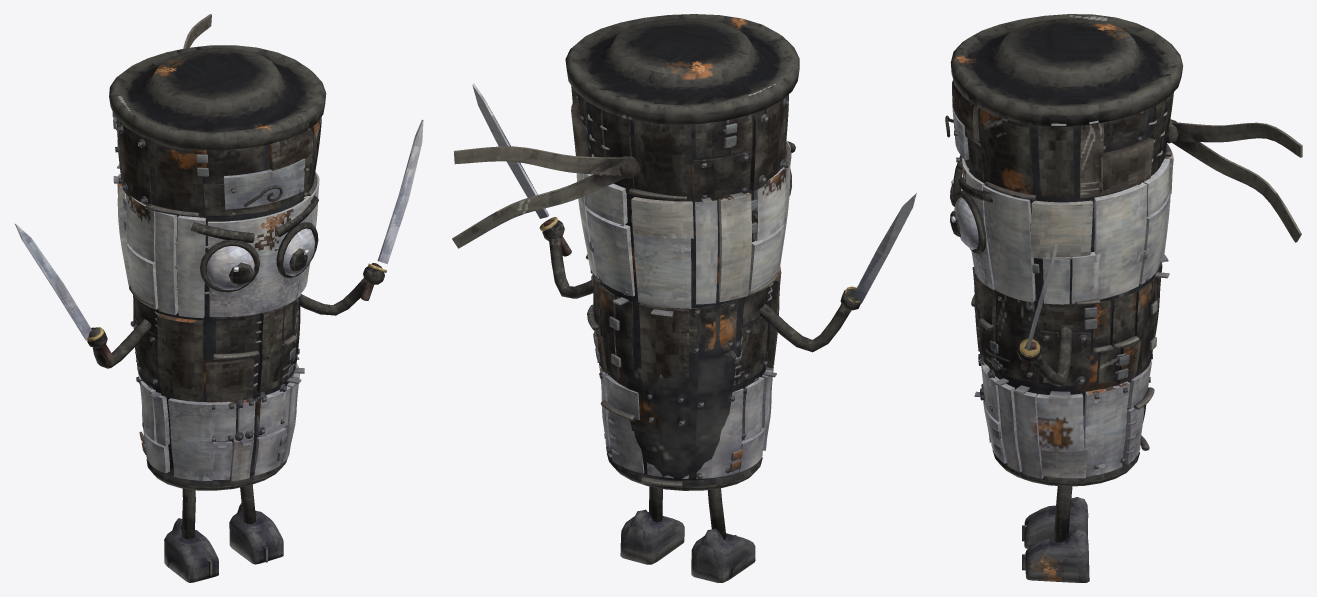
3 renders of one model, left to right at view 1: azimuth 30°, elevation 25°; view 2: azimuth 150°, elevation 25°; view 3: azimuth 270°, elevation 25°, orthographic. The views are drawn at different scales.
Parts seen in each view (by area): view 1: Lid, PanelsENAMEL, PanelsTAR, PanelsSOOT, PanelsBURNT, Face, Boots, PanelsALUMINIUM, Body, Blades, Headband, Arms (+11 smaller); view 2: Lid, PanelsENAMEL, Body, PanelsSOOT, PanelsBURNT, PanelsALUMINIUM, Tails, PanelsTIN, Boots, PanelsTAR, Arms, Blades (+5 smaller); view 3: Lid, PanelsENAMEL, PanelsSOOT, PanelsTAR, PanelsALUMINIUM, PanelsTIN, Tails, Body, Boots, PanelsBURNT, Arms, Welds (+11 smaller).
Boxes of the visible parts, x1=… form: Lid: x1=109, y1=45, x2=326, y2=150; PanelsENAMEL: x1=125, y1=175, x2=319, y2=479; PanelsTAR: x1=157, y1=128, x2=312, y2=402; PanelsSOOT: x1=117, y1=116, x2=321, y2=392; PanelsBURNT: x1=116, y1=119, x2=203, y2=386; Face: x1=207, y1=196, x2=310, y2=317; Boots: x1=164, y1=503, x2=283, y2=582; PanelsALUMINIUM: x1=153, y1=392, x2=213, y2=480; Body: x1=133, y1=138, x2=303, y2=479; Blades: x1=15, y1=119, x2=423, y2=341; Headband: x1=224, y1=158, x2=305, y2=209; Arms: x1=87, y1=264, x2=384, y2=368; Lid: x1=565, y1=14, x2=799, y2=124; PanelsENAMEL: x1=575, y1=140, x2=791, y2=478; Body: x1=580, y1=100, x2=774, y2=480; PanelsSOOT: x1=577, y1=94, x2=770, y2=378; PanelsBURNT: x1=590, y1=94, x2=788, y2=384; PanelsALUMINIUM: x1=599, y1=234, x2=774, y2=457; Tails: x1=452, y1=146, x2=640, y2=248; PanelsTIN: x1=631, y1=192, x2=751, y2=302; Boots: x1=620, y1=509, x2=755, y2=582; PanelsTAR: x1=571, y1=86, x2=781, y2=390; Arms: x1=542, y1=219, x2=860, y2=352; Blades: x1=472, y1=83, x2=916, y2=304; Lid: x1=950, y1=14, x2=1182, y2=126; PanelsENAMEL: x1=980, y1=158, x2=1169, y2=478; PanelsSOOT: x1=978, y1=92, x2=1173, y2=385; PanelsTAR: x1=952, y1=80, x2=1162, y2=384; PanelsALUMINIUM: x1=1042, y1=192, x2=1170, y2=476; PanelsTIN: x1=983, y1=148, x2=1173, y2=478; Tails: x1=1166, y1=119, x2=1302, y2=242; Body: x1=969, y1=106, x2=1157, y2=430; Boots: x1=1024, y1=497, x2=1089, y2=582; PanelsBURNT: x1=1037, y1=100, x2=1165, y2=364; Arms: x1=1016, y1=327, x2=1072, y2=386; Welds: x1=971, y1=143, x2=1171, y2=450.
Bounding box in the file's own units: 3.53 × 4 × 2.5.
31 materials, 31 textured.
